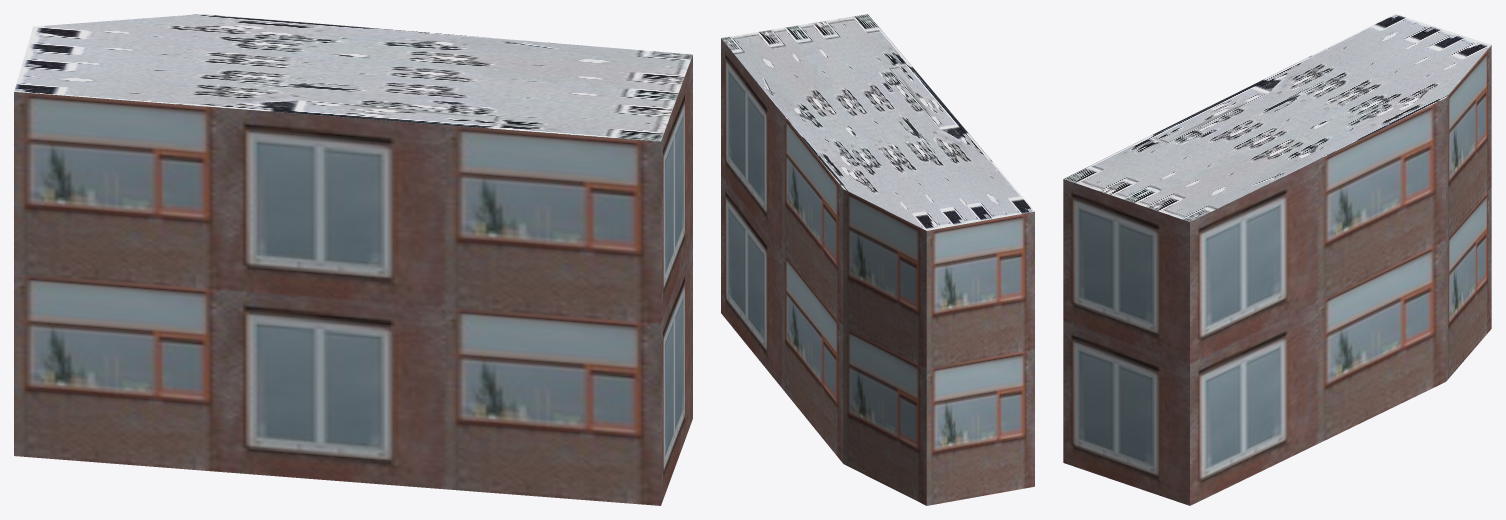
The model's file is ResTex__3419.fbx.
The picture shows the model from 3 angles, left to right: view 1: azimuth 30°, elevation 25°; view 2: azimuth 150°, elevation 25°; view 3: azimuth 270°, elevation 25°; orthographic projection. The views are drawn at different scales.
Visible parts, largest first — view 1: CityEngineMaterial_19_m, CityEngineMaterial_15_m; view 2: CityEngineMaterial_19_m, CityEngineMaterial_15_m; view 3: CityEngineMaterial_19_m, CityEngineMaterial_15_m.
Boxes of the visible parts, x1,y1,x2,y2 form: CityEngineMaterial_19_m: (14,55,692,505); CityEngineMaterial_15_m: (14,14,692,141); CityEngineMaterial_19_m: (721,38,1034,505); CityEngineMaterial_15_m: (721,14,1034,230); CityEngineMaterial_19_m: (1063,45,1491,505); CityEngineMaterial_15_m: (1064,14,1491,221).
Bounding box in the file's own units: 9.44 × 6 × 8.21.
Materials: 2 (2 with a texture image).
